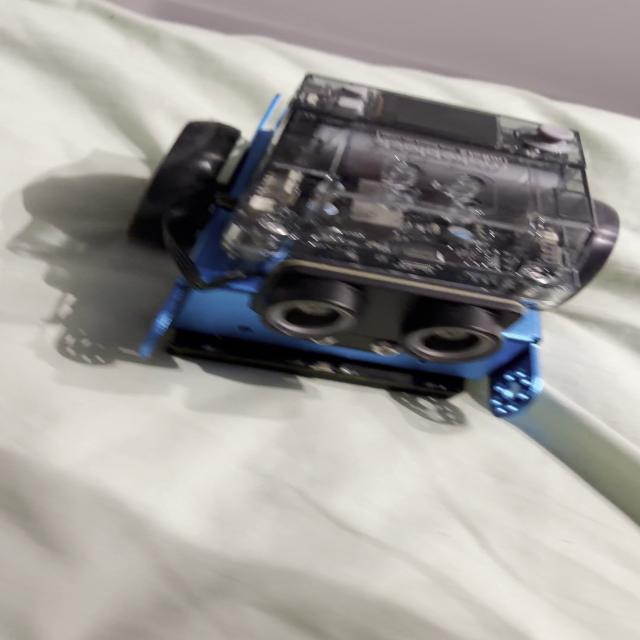mbot-detection: (100, 69, 632, 425)
